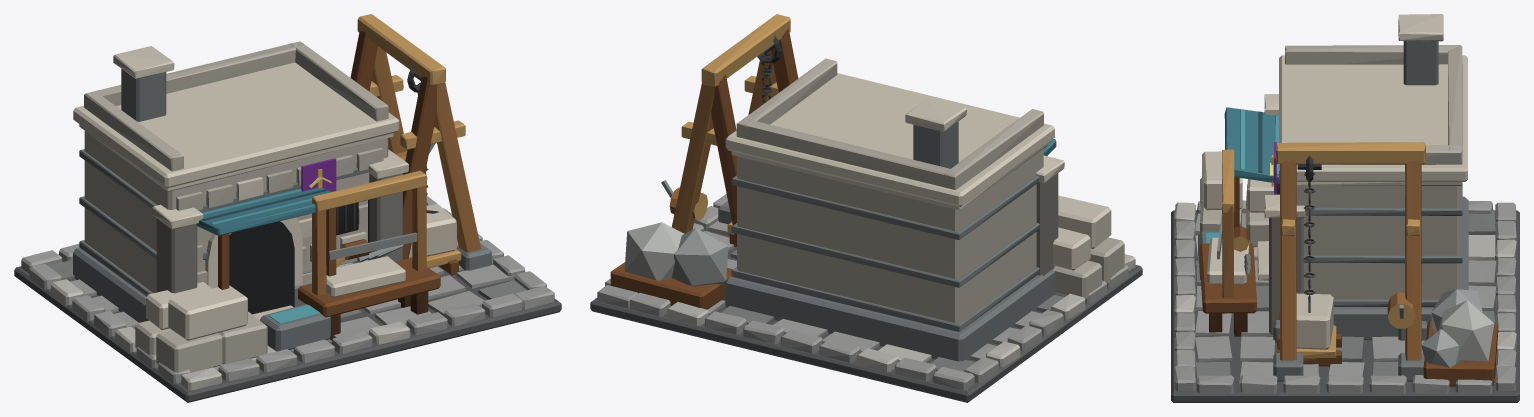
3 views of the same model, side by side, from view 1: azimuth 30°, elevation 25°; view 2: azimuth 150°, elevation 25°; view 3: azimuth 270°, elevation 25° (orthographic).
Visible parts, largest first — view 1: WK_CityStoneworks_LOD0_High; view 2: WK_CityStoneworks_LOD0_High; view 3: WK_CityStoneworks_LOD0_High.
Part boxes in pixels (bbox=[...]): WK_CityStoneworks_LOD0_High: bbox=[14, 14, 561, 402]; WK_CityStoneworks_LOD0_High: bbox=[590, 14, 1142, 402]; WK_CityStoneworks_LOD0_High: bbox=[1171, 14, 1519, 402].
Bounding box in the file's own units: 9 × 5.39 × 7.2.
